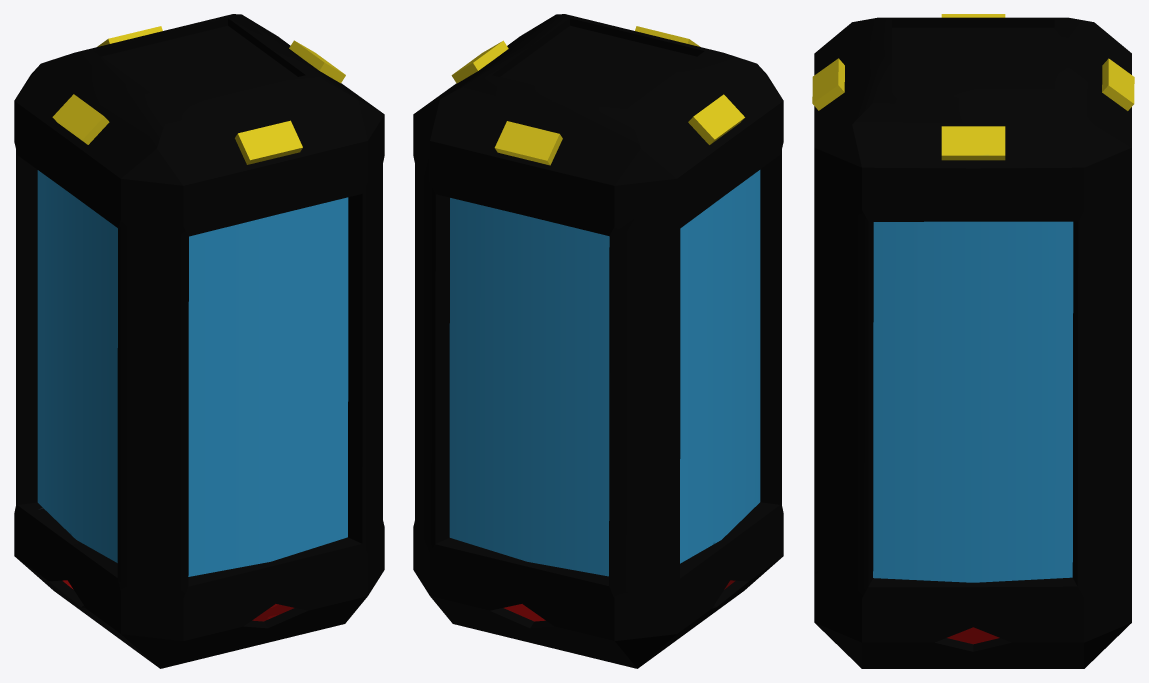
Rendered from Shield Pickup.fbx.
The picture shows the model from 3 angles, left to right: view 1: azimuth 30°, elevation 25°; view 2: azimuth 150°, elevation 25°; view 3: azimuth 270°, elevation 25°; orthographic projection. The views are drawn at different scales.
Parts seen in each view (by area): view 1: ShieldBox, Light2, Light1, Light3; view 2: ShieldBox, Light4, Light1, Light3; view 3: ShieldBox, Light3, Light4, Light2.
Part boxes in pixels (<box>): ShieldBox: <box>14,14,384,668</box>; Light2: <box>235,120,302,164</box>; Light1: <box>52,94,109,144</box>; Light3: <box>289,40,345,83</box>; ShieldBox: <box>413,14,783,668</box>; Light4: <box>494,121,562,165</box>; Light1: <box>688,94,744,144</box>; Light3: <box>451,40,508,83</box>; ShieldBox: <box>814,17,1131,668</box>; Light3: <box>941,126,1005,160</box>; Light4: <box>1102,58,1134,110</box>; Light2: <box>812,58,844,110</box>.
Size of the model in its own units: 0.0499 by 0.0983 by 0.0506.
1 material, 1 textured.
